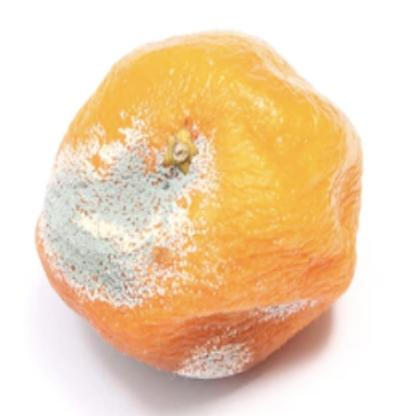rotten: (36, 33, 360, 383)
